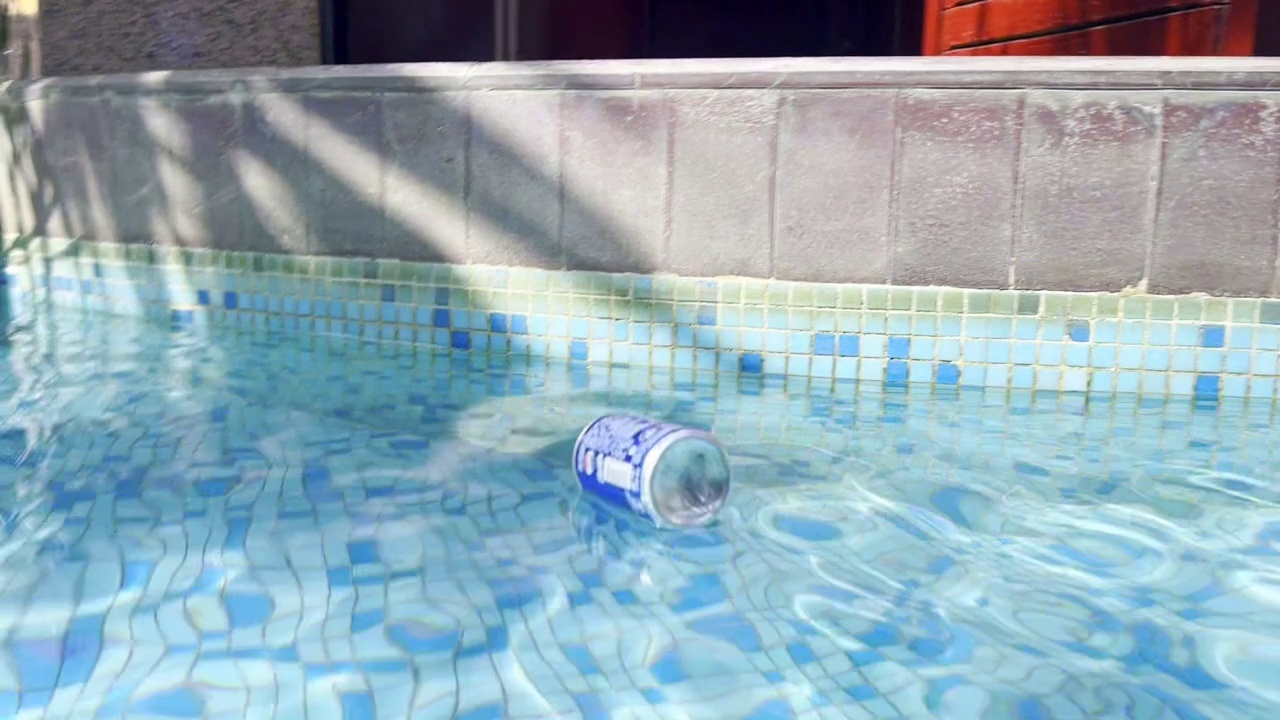debris: (565, 395, 735, 538)
